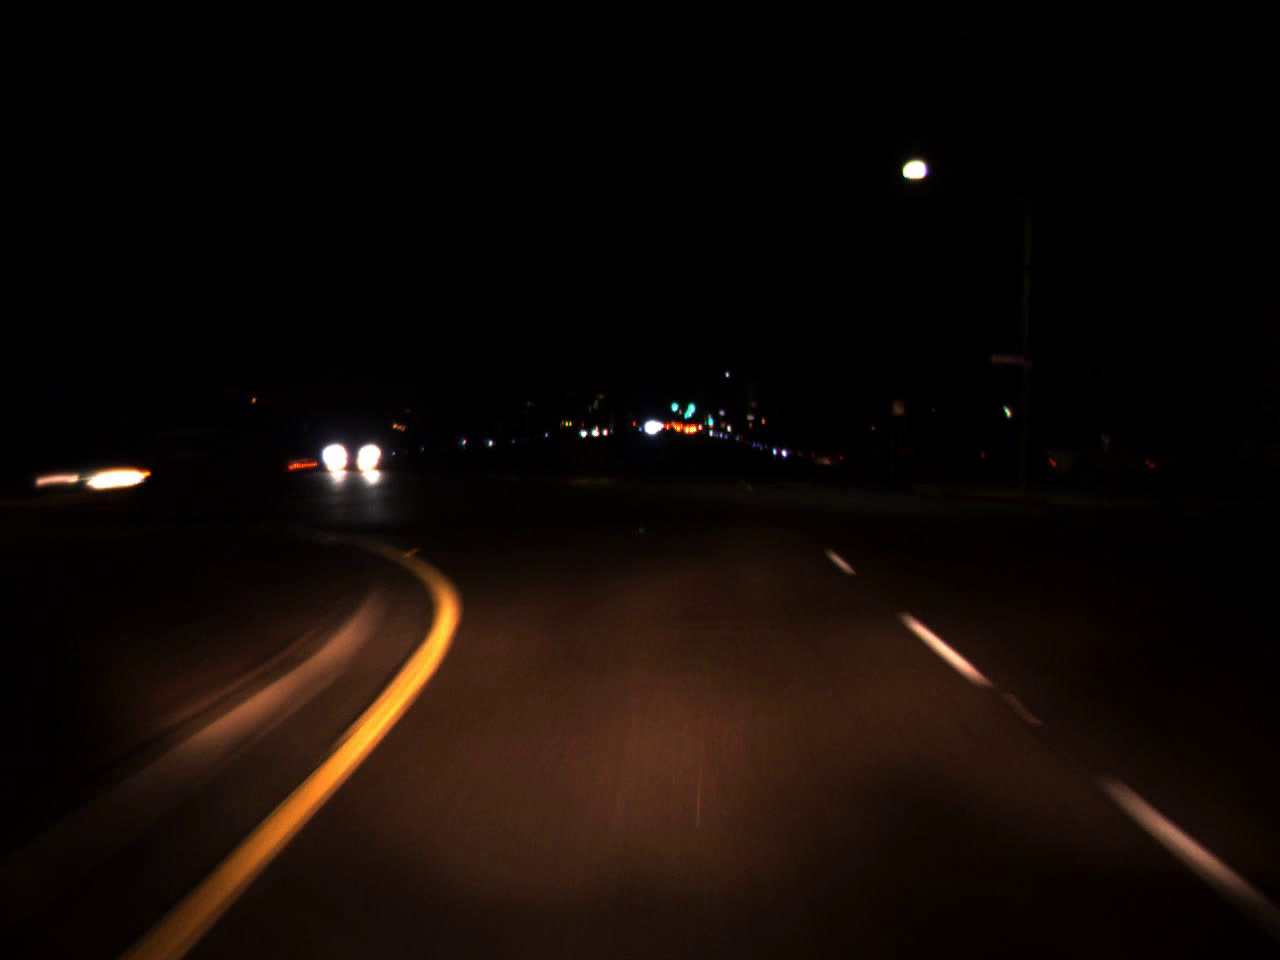go: (681, 393, 695, 417), (670, 395, 677, 413), (707, 411, 714, 426)
